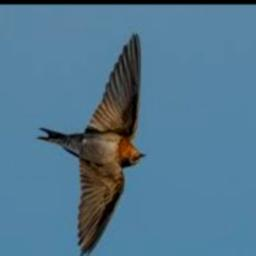Swallow: (38, 33, 147, 256)
